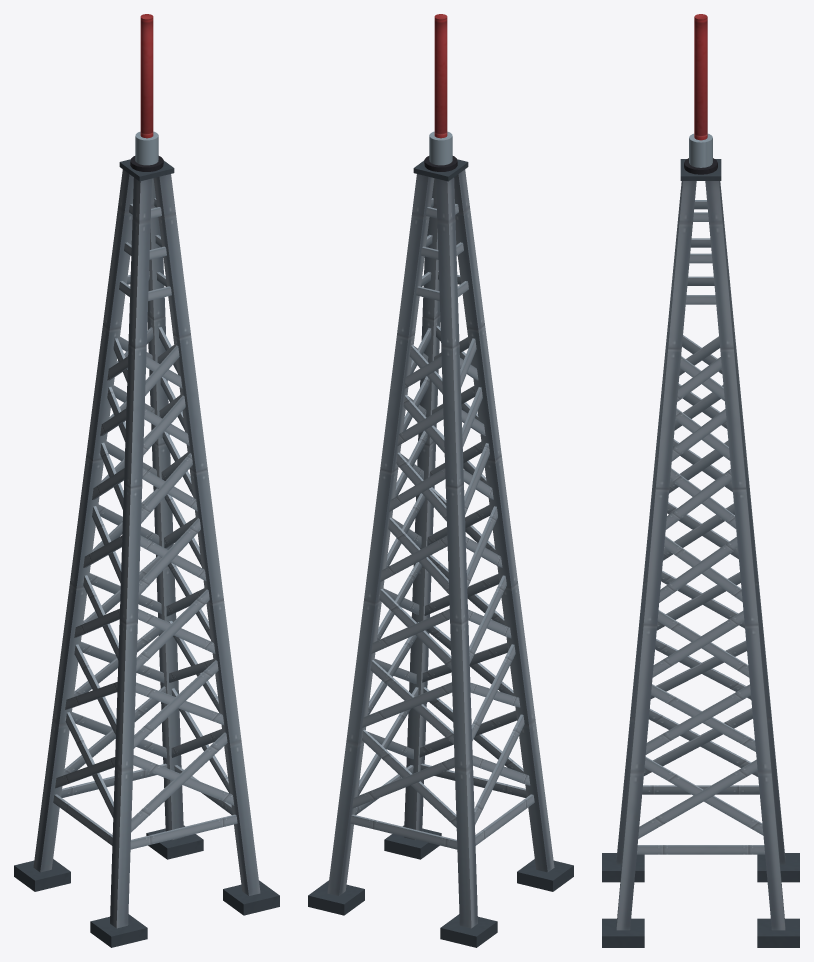
The model's file is Mast1.fbx.
The picture shows the model from 3 angles, left to right: view 1: azimuth 30°, elevation 25°; view 2: azimuth 150°, elevation 25°; view 3: azimuth 270°, elevation 25°; orthographic projection.
Visible parts, largest first — view 1: polySurface980; view 2: polySurface980; view 3: polySurface980.
Boxes of the visible parts, bbox=[...] form: polySurface980: bbox=[14, 14, 279, 947]; polySurface980: bbox=[308, 14, 573, 947]; polySurface980: bbox=[602, 14, 799, 947].
Bounding box in the file's own units: 161 × 798 × 161.
